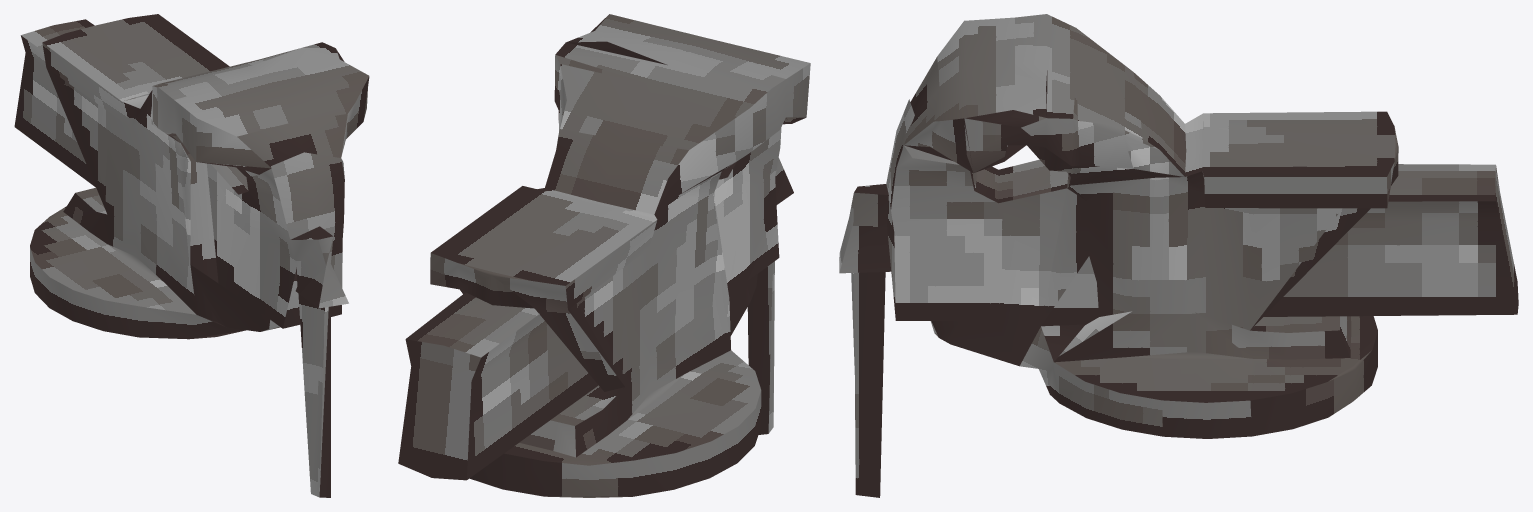
File: bench_vice_01.glb
3 renders of one model, left to right at view 1: azimuth 30°, elevation 25°; view 2: azimuth 150°, elevation 25°; view 3: azimuth 270°, elevation 25°, orthographic. The views are drawn at different scales.
Visible parts, largest first — view 1: mesh; view 2: mesh; view 3: mesh.
Part boxes in pixels (<box>): mesh: <box>14,14,369,497</box>; mesh: <box>398,14,810,497</box>; mesh: <box>839,14,1518,497</box>.
Size of the model in its own units: 0.1928 by 0.2717 by 0.3812.
Materials: 1 (1 with a texture image).
